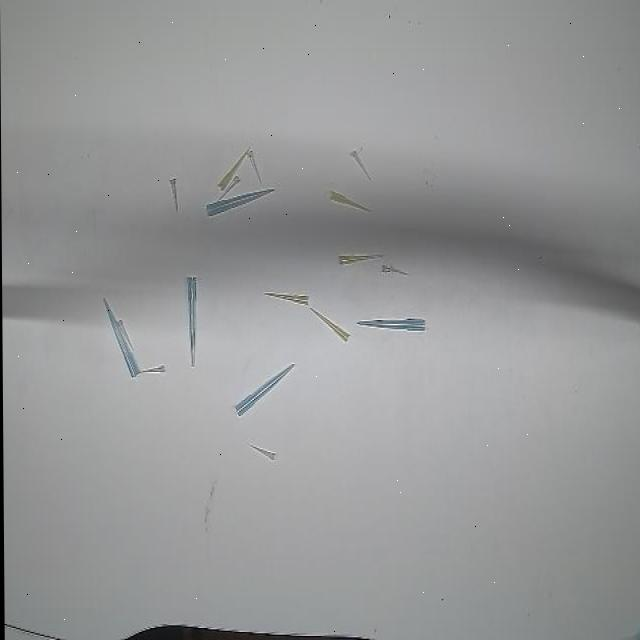Micropipette Tip 10 uL: (348, 148, 372, 184), (245, 440, 279, 462), (217, 173, 241, 201), (116, 318, 135, 353), (247, 148, 265, 184), (168, 176, 182, 214), (378, 264, 411, 280), (137, 363, 169, 376)
Micropipette Tip 1000 uL: (232, 360, 299, 420), (101, 295, 141, 379), (203, 186, 280, 220), (185, 273, 200, 368), (356, 316, 427, 332)
Micropipette Tip 200 uL: (308, 306, 352, 345), (216, 146, 253, 191), (328, 189, 372, 217), (262, 287, 314, 308), (336, 252, 385, 265)
